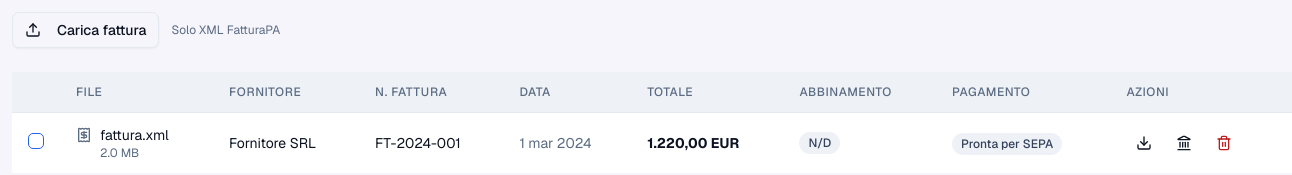
it: InvoicesTab › allows selecting an eligible invoice and shows the generate button with the count
Check: the text "Pronta per SEPA" is shown, box [952,133,1062,155]
Click the checkbox named "seleziona fattura" at (36, 141), box [28,133,44,149]
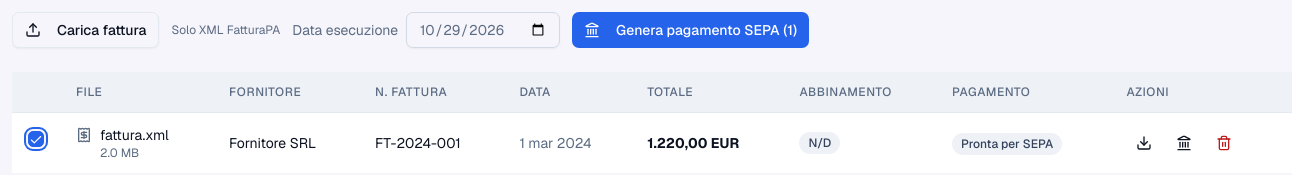
Check: the button "Genera pagamento SEPA (1)" is shown, box [572,12,809,48]
